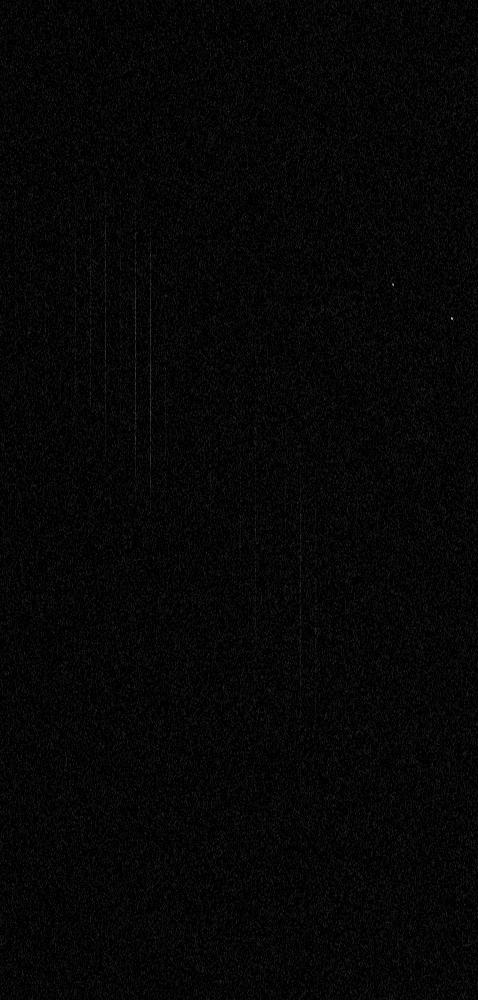signal: (0, 0, 477, 999)
